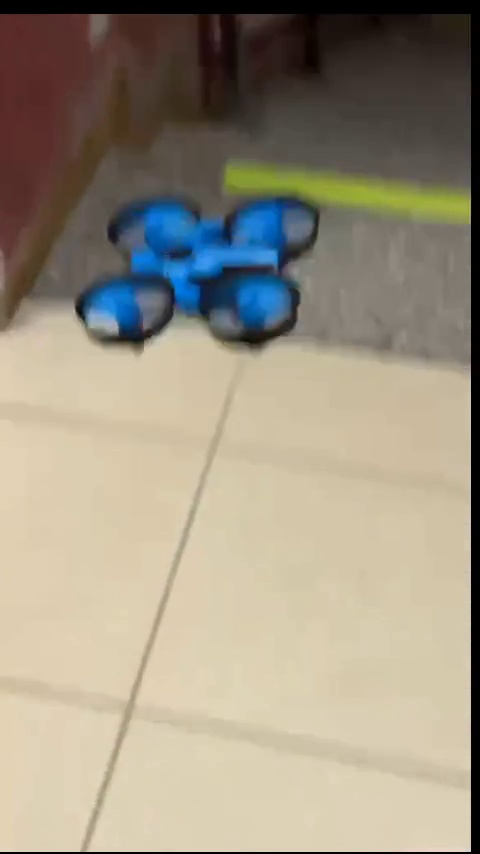drone: (80, 193, 325, 351)
